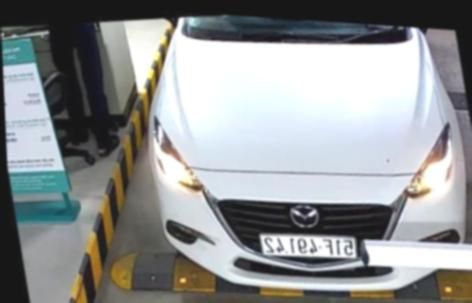License_Plate: (259, 229, 360, 264)
